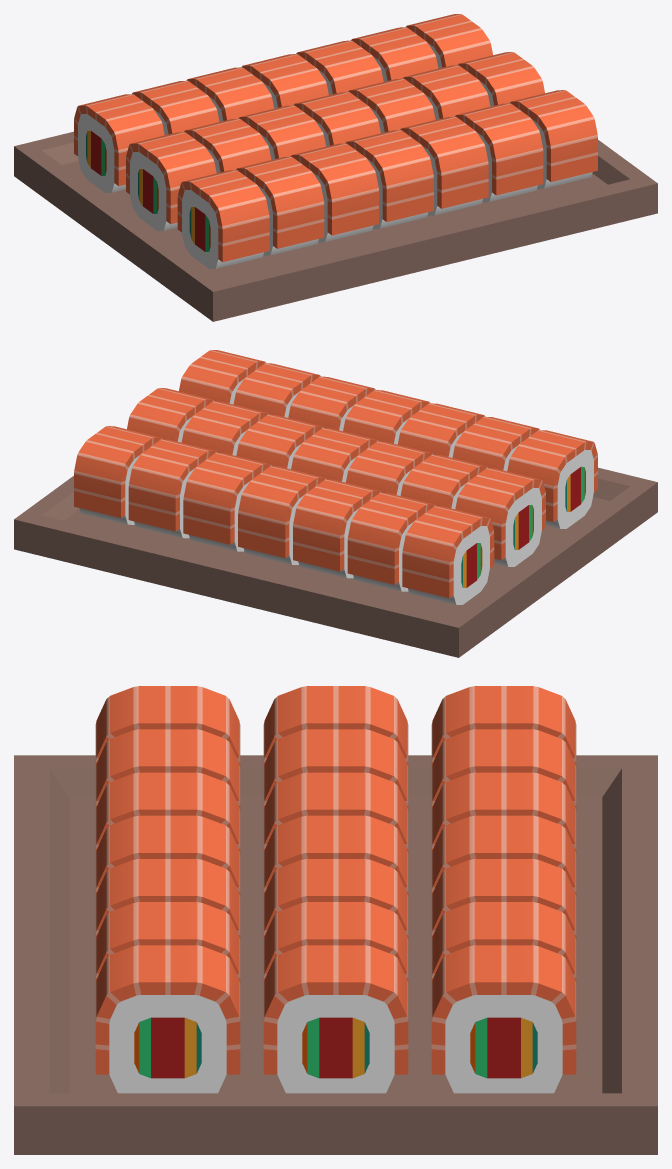
File: JP_Food_Sushi.fbx
The picture shows the model from 3 angles, top to bottom: view 1: azimuth 30°, elevation 25°; view 2: azimuth 150°, elevation 25°; view 3: azimuth 270°, elevation 25°; orthographic projection. The views are drawn at different scales.
Visible parts, largest first — view 1: JP_Food_Sushi; view 2: JP_Food_Sushi; view 3: JP_Food_Sushi.
Part boxes in pixels (x1=…): JP_Food_Sushi: x1=14, y1=14, x2=657, y2=321; JP_Food_Sushi: x1=14, y1=350, x2=657, y2=657; JP_Food_Sushi: x1=14, y1=686, x2=657, y2=1154.
Bounding box in the file's own units: 60.91 × 11.74 × 47.23.
